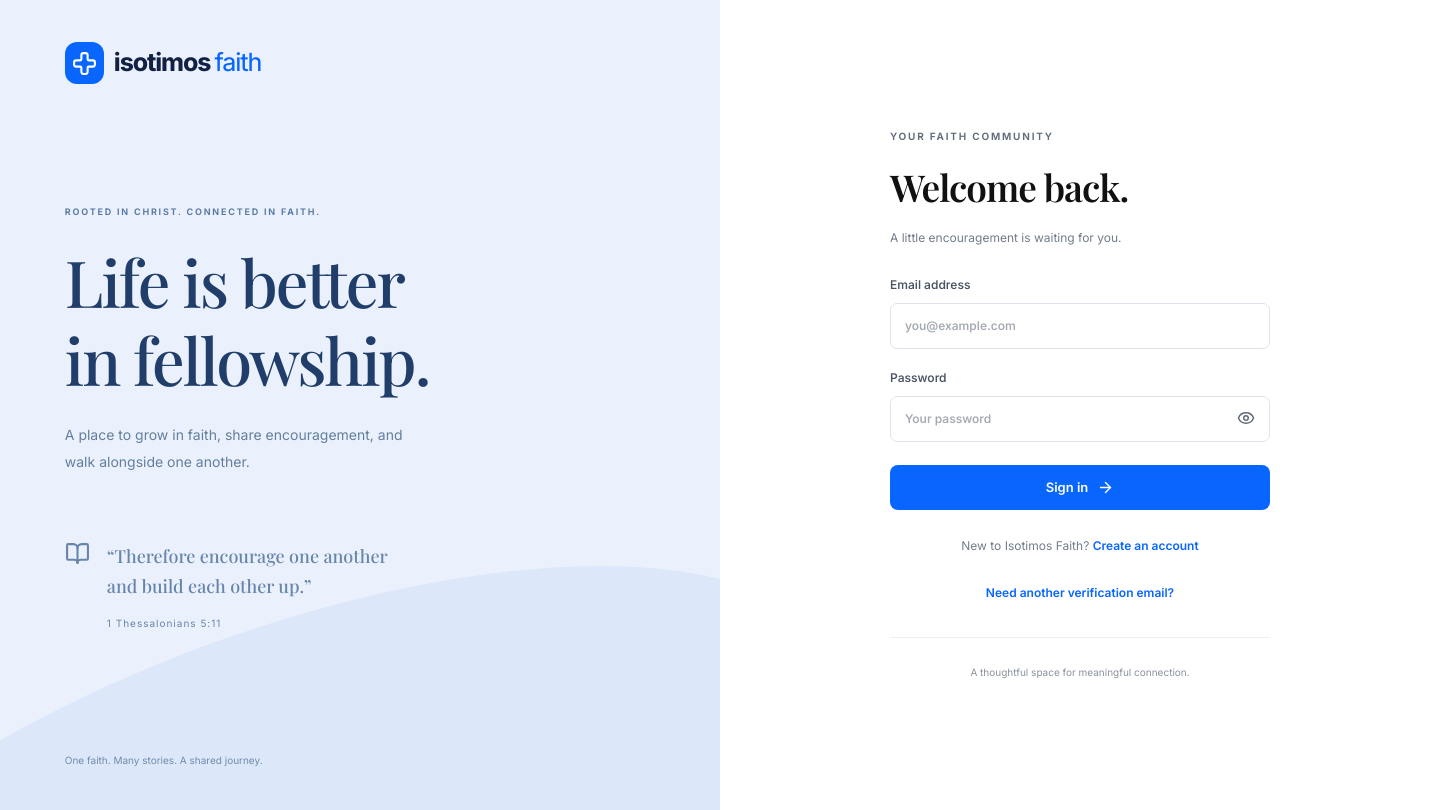
Scenario: real auth UI and provider with mocked Supabase transport › submits email/password and maps invalid credentials without leaking server details
The image size is (1440, 810).
Type "grace@example.com" into the field labelled "Email address" at (1080, 326), box x1=890 y1=304 x2=1270 y2=350
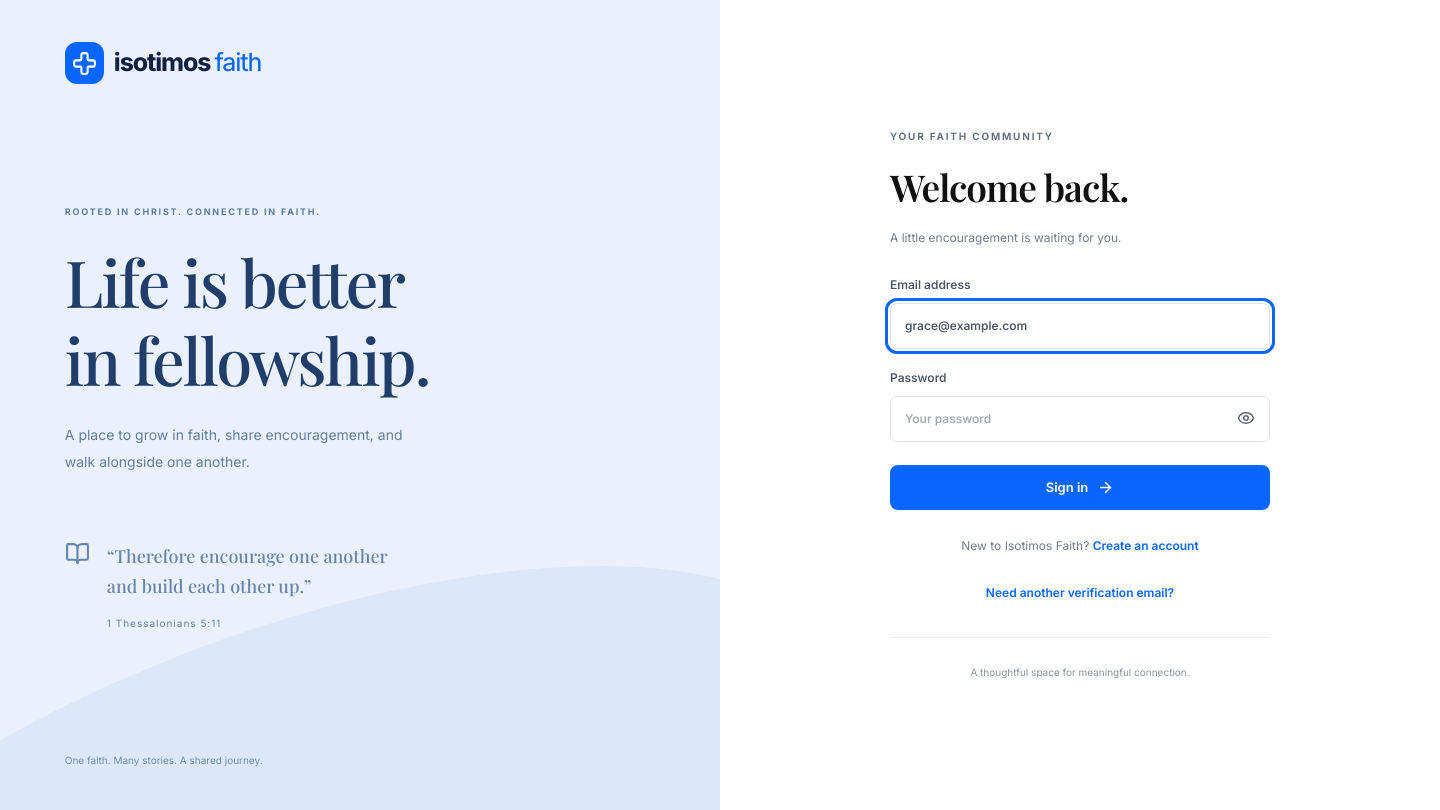
Type "incorrect-password" into the password field labelled "Password" at (1080, 420), box x1=890 y1=396 x2=1270 y2=442
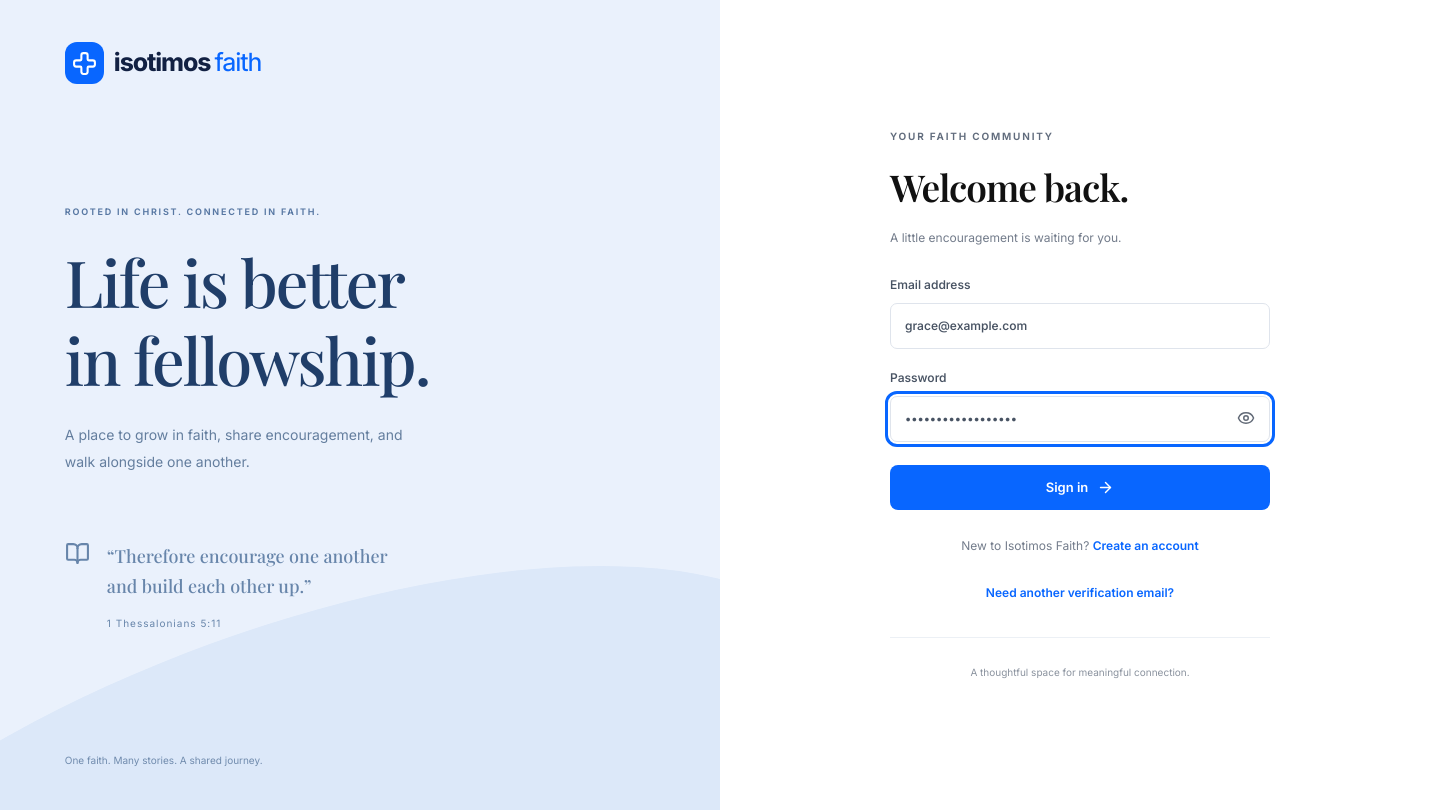
Click the button "Sign in" at (1080, 488), box x1=890 y1=466 x2=1270 y2=510
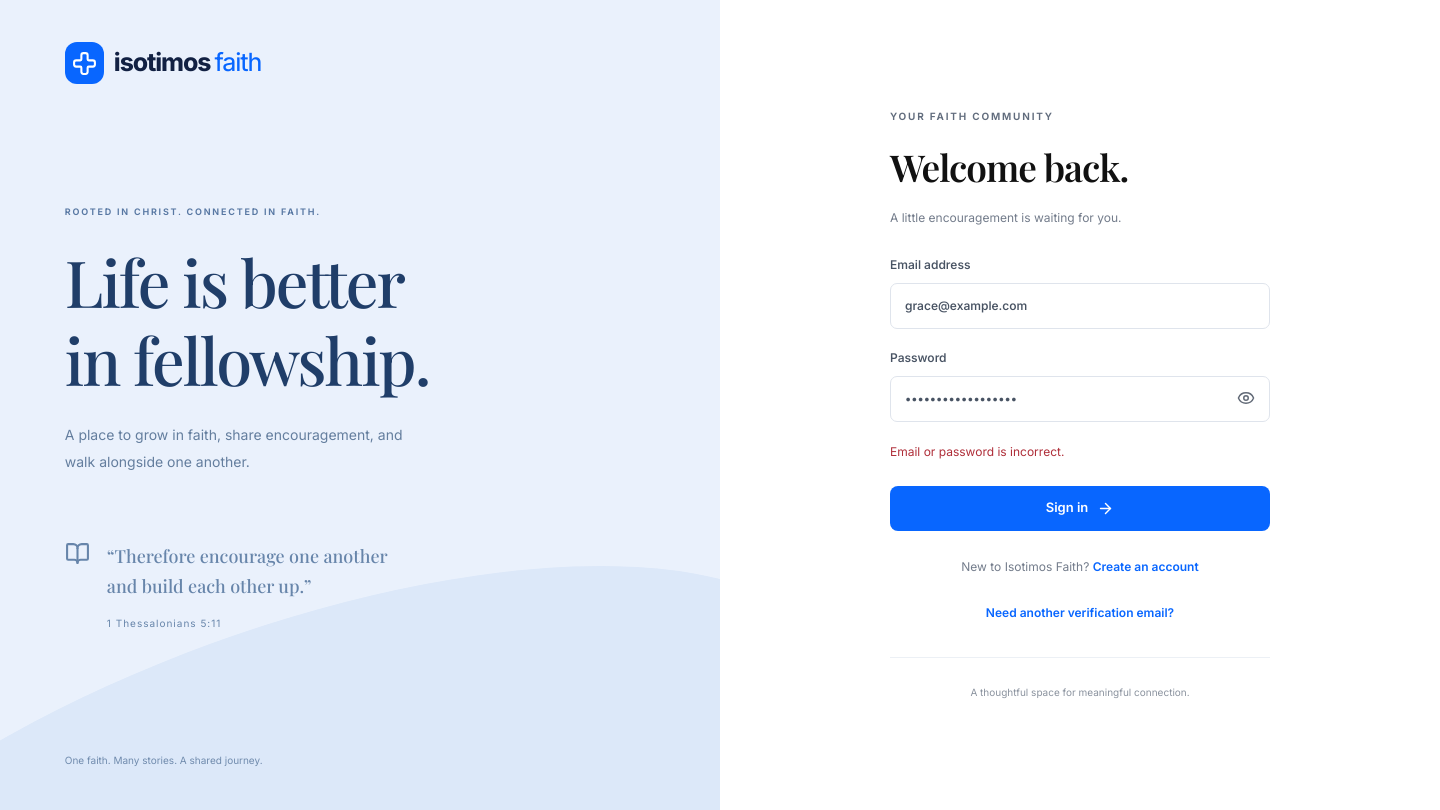
Check: the message shows "Email or password is incorrect", box x1=890 y1=444 x2=1064 y2=459
